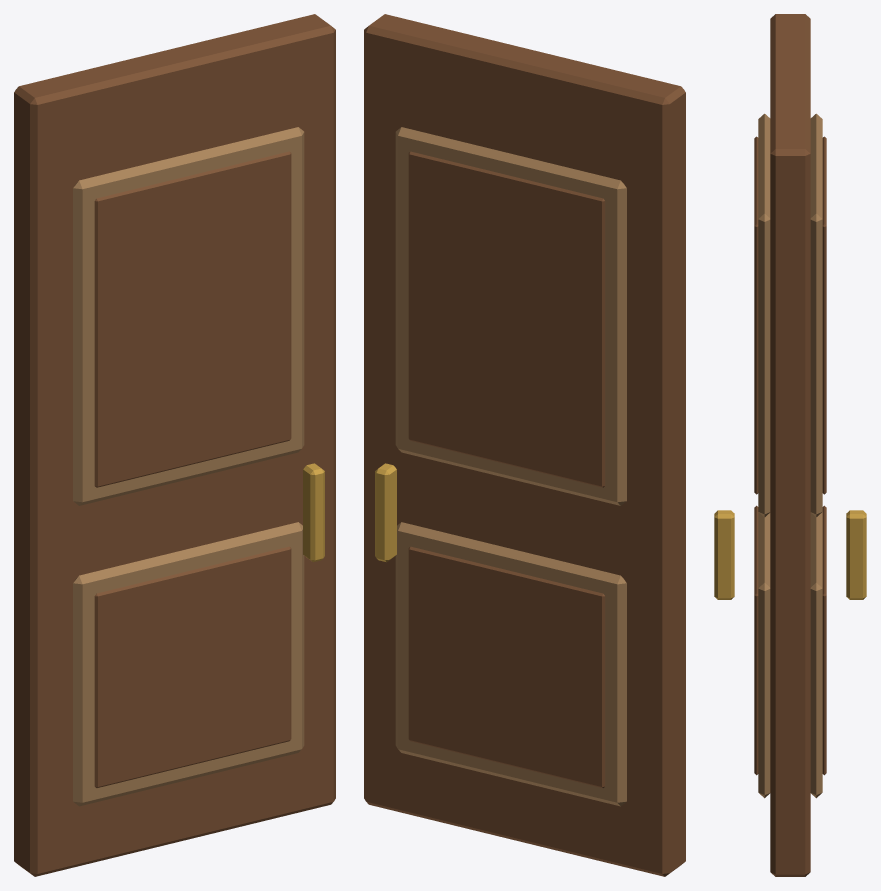
File: door_cottage.glb
The picture shows the model from 3 angles, left to right: view 1: azimuth 30°, elevation 25°; view 2: azimuth 150°, elevation 25°; view 3: azimuth 270°, elevation 25°; orthographic projection. The views are drawn at different scales.
Visible parts, largest first — view 1: door_cottage; view 2: door_cottage; view 3: door_cottage.
Boxes of the visible parts, left/top/right/bottom form: door_cottage: left=14, top=14, right=335, bottom=876; door_cottage: left=364, top=14, right=685, bottom=876; door_cottage: left=714, top=14, right=866, bottom=876.
Bounding box in the file's own units: 1.15 × 2.8 × 0.53.
